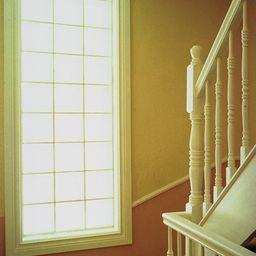Escaleras: (170, 7, 246, 247)
Ventana: (9, 5, 126, 237)
